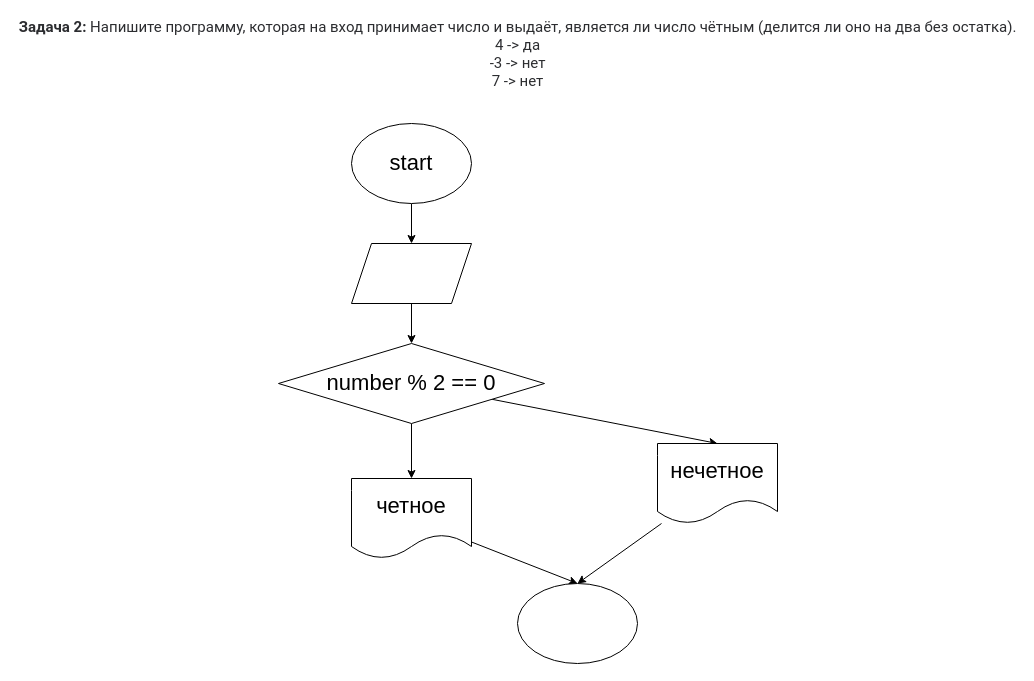
The diagram is 1034 pixels wide and 681 high, and some of its shapes have lost their labels. The centre of each missing label's shape, as x and y in pixels:
end: (577,623)
number: (411,273)
